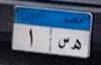1: (29, 27, 35, 47)
haa: (71, 36, 81, 52)
seen: (56, 35, 70, 51)
